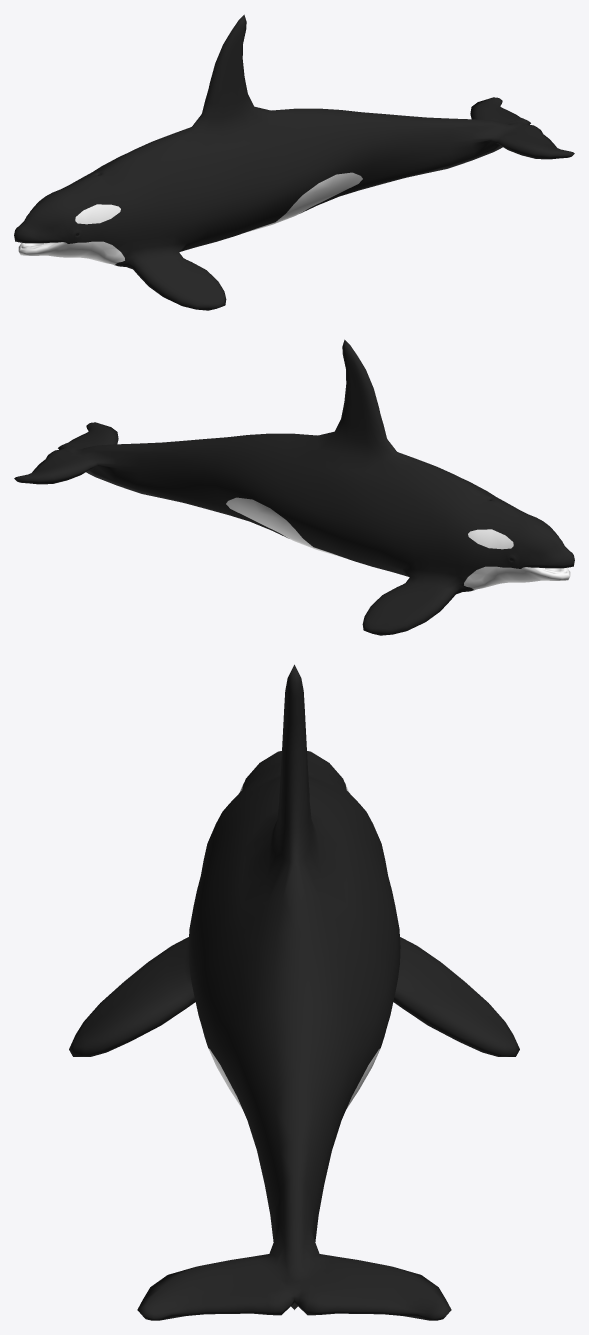
Rendered from Orcas_001.glb.
The picture shows the model from 3 angles, top to bottom: view 1: azimuth 30°, elevation 25°; view 2: azimuth 150°, elevation 25°; view 3: azimuth 270°, elevation 25°; orthographic projection. The views are drawn at different scales.
Parts seen in each view (by area): view 1: Orcas_001; view 2: Orcas_001; view 3: Orcas_001.
Part boxes in pixels (x1=…): Orcas_001: x1=14, y1=14, x2=574, y2=310; Orcas_001: x1=14, y1=339, x2=574, y2=635; Orcas_001: x1=69, y1=664, x2=519, y2=1320.
Bounding box in the file's own units: 10.46 × 4.48 × 3.9.
1 material, 1 textured.
